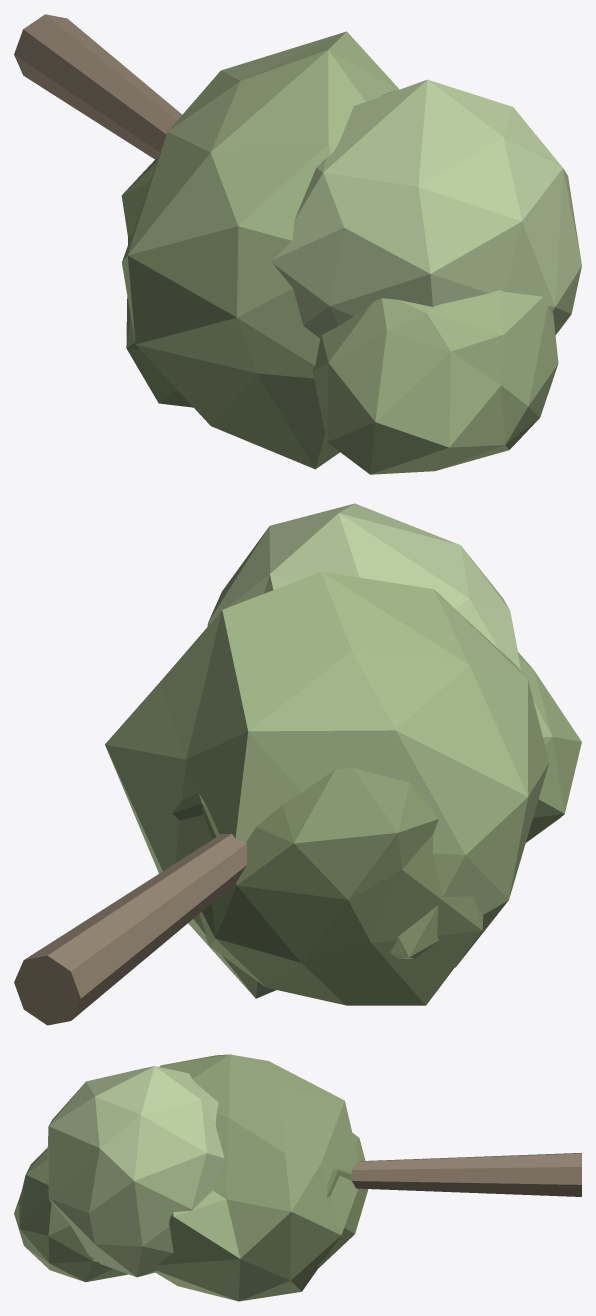
Rendered from deciduous-elm.glb.
3 views of the same model, one above another, from view 1: azimuth 30°, elevation 25°; view 2: azimuth 150°, elevation 25°; view 3: azimuth 270°, elevation 25° (orthographic). The views are drawn at different scales.
Parts seen in each view (by area): view 1: deciduous-elm_Forest_Base, deciduous-elm_Forest_Highlight, deciduous-elm_Trunk_Brown, deciduous-elm_Forest_Shadow; view 2: deciduous-elm_Forest_Base, deciduous-elm_Forest_Shadow, deciduous-elm_Forest_Highlight, deciduous-elm_Trunk_Brown; view 3: deciduous-elm_Forest_Base, deciduous-elm_Forest_Highlight, deciduous-elm_Trunk_Brown, deciduous-elm_Forest_Shadow.
Boxes of the visible parts, bbox=[...] form: deciduous-elm_Forest_Base: bbox=[122, 31, 558, 474]; deciduous-elm_Forest_Highlight: bbox=[272, 79, 581, 338]; deciduous-elm_Trunk_Brown: bbox=[14, 14, 182, 159]; deciduous-elm_Forest_Shadow: bbox=[121, 157, 193, 407]; deciduous-elm_Forest_Base: bbox=[105, 571, 581, 998]; deciduous-elm_Forest_Shadow: bbox=[172, 768, 483, 1005]; deciduous-elm_Forest_Highlight: bbox=[207, 503, 521, 671]; deciduous-elm_Trunk_Brown: bbox=[14, 833, 246, 1025]; deciduous-elm_Forest_Base: bbox=[14, 1054, 358, 1301]; deciduous-elm_Forest_Highlight: bbox=[47, 1066, 224, 1277]; deciduous-elm_Trunk_Brown: bbox=[351, 1153, 581, 1196]; deciduous-elm_Forest_Shadow: bbox=[315, 1133, 368, 1268].
Bounding box in the file's own units: 1.4 × 1.33 × 2.89.
